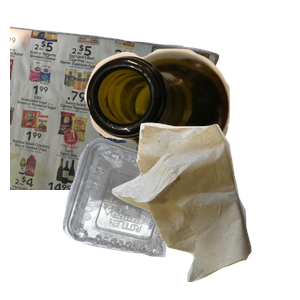glass: (82, 46, 300, 199)
paper: (10, 21, 222, 201)
plastic: (60, 136, 237, 300)
trash: (109, 120, 300, 300)
